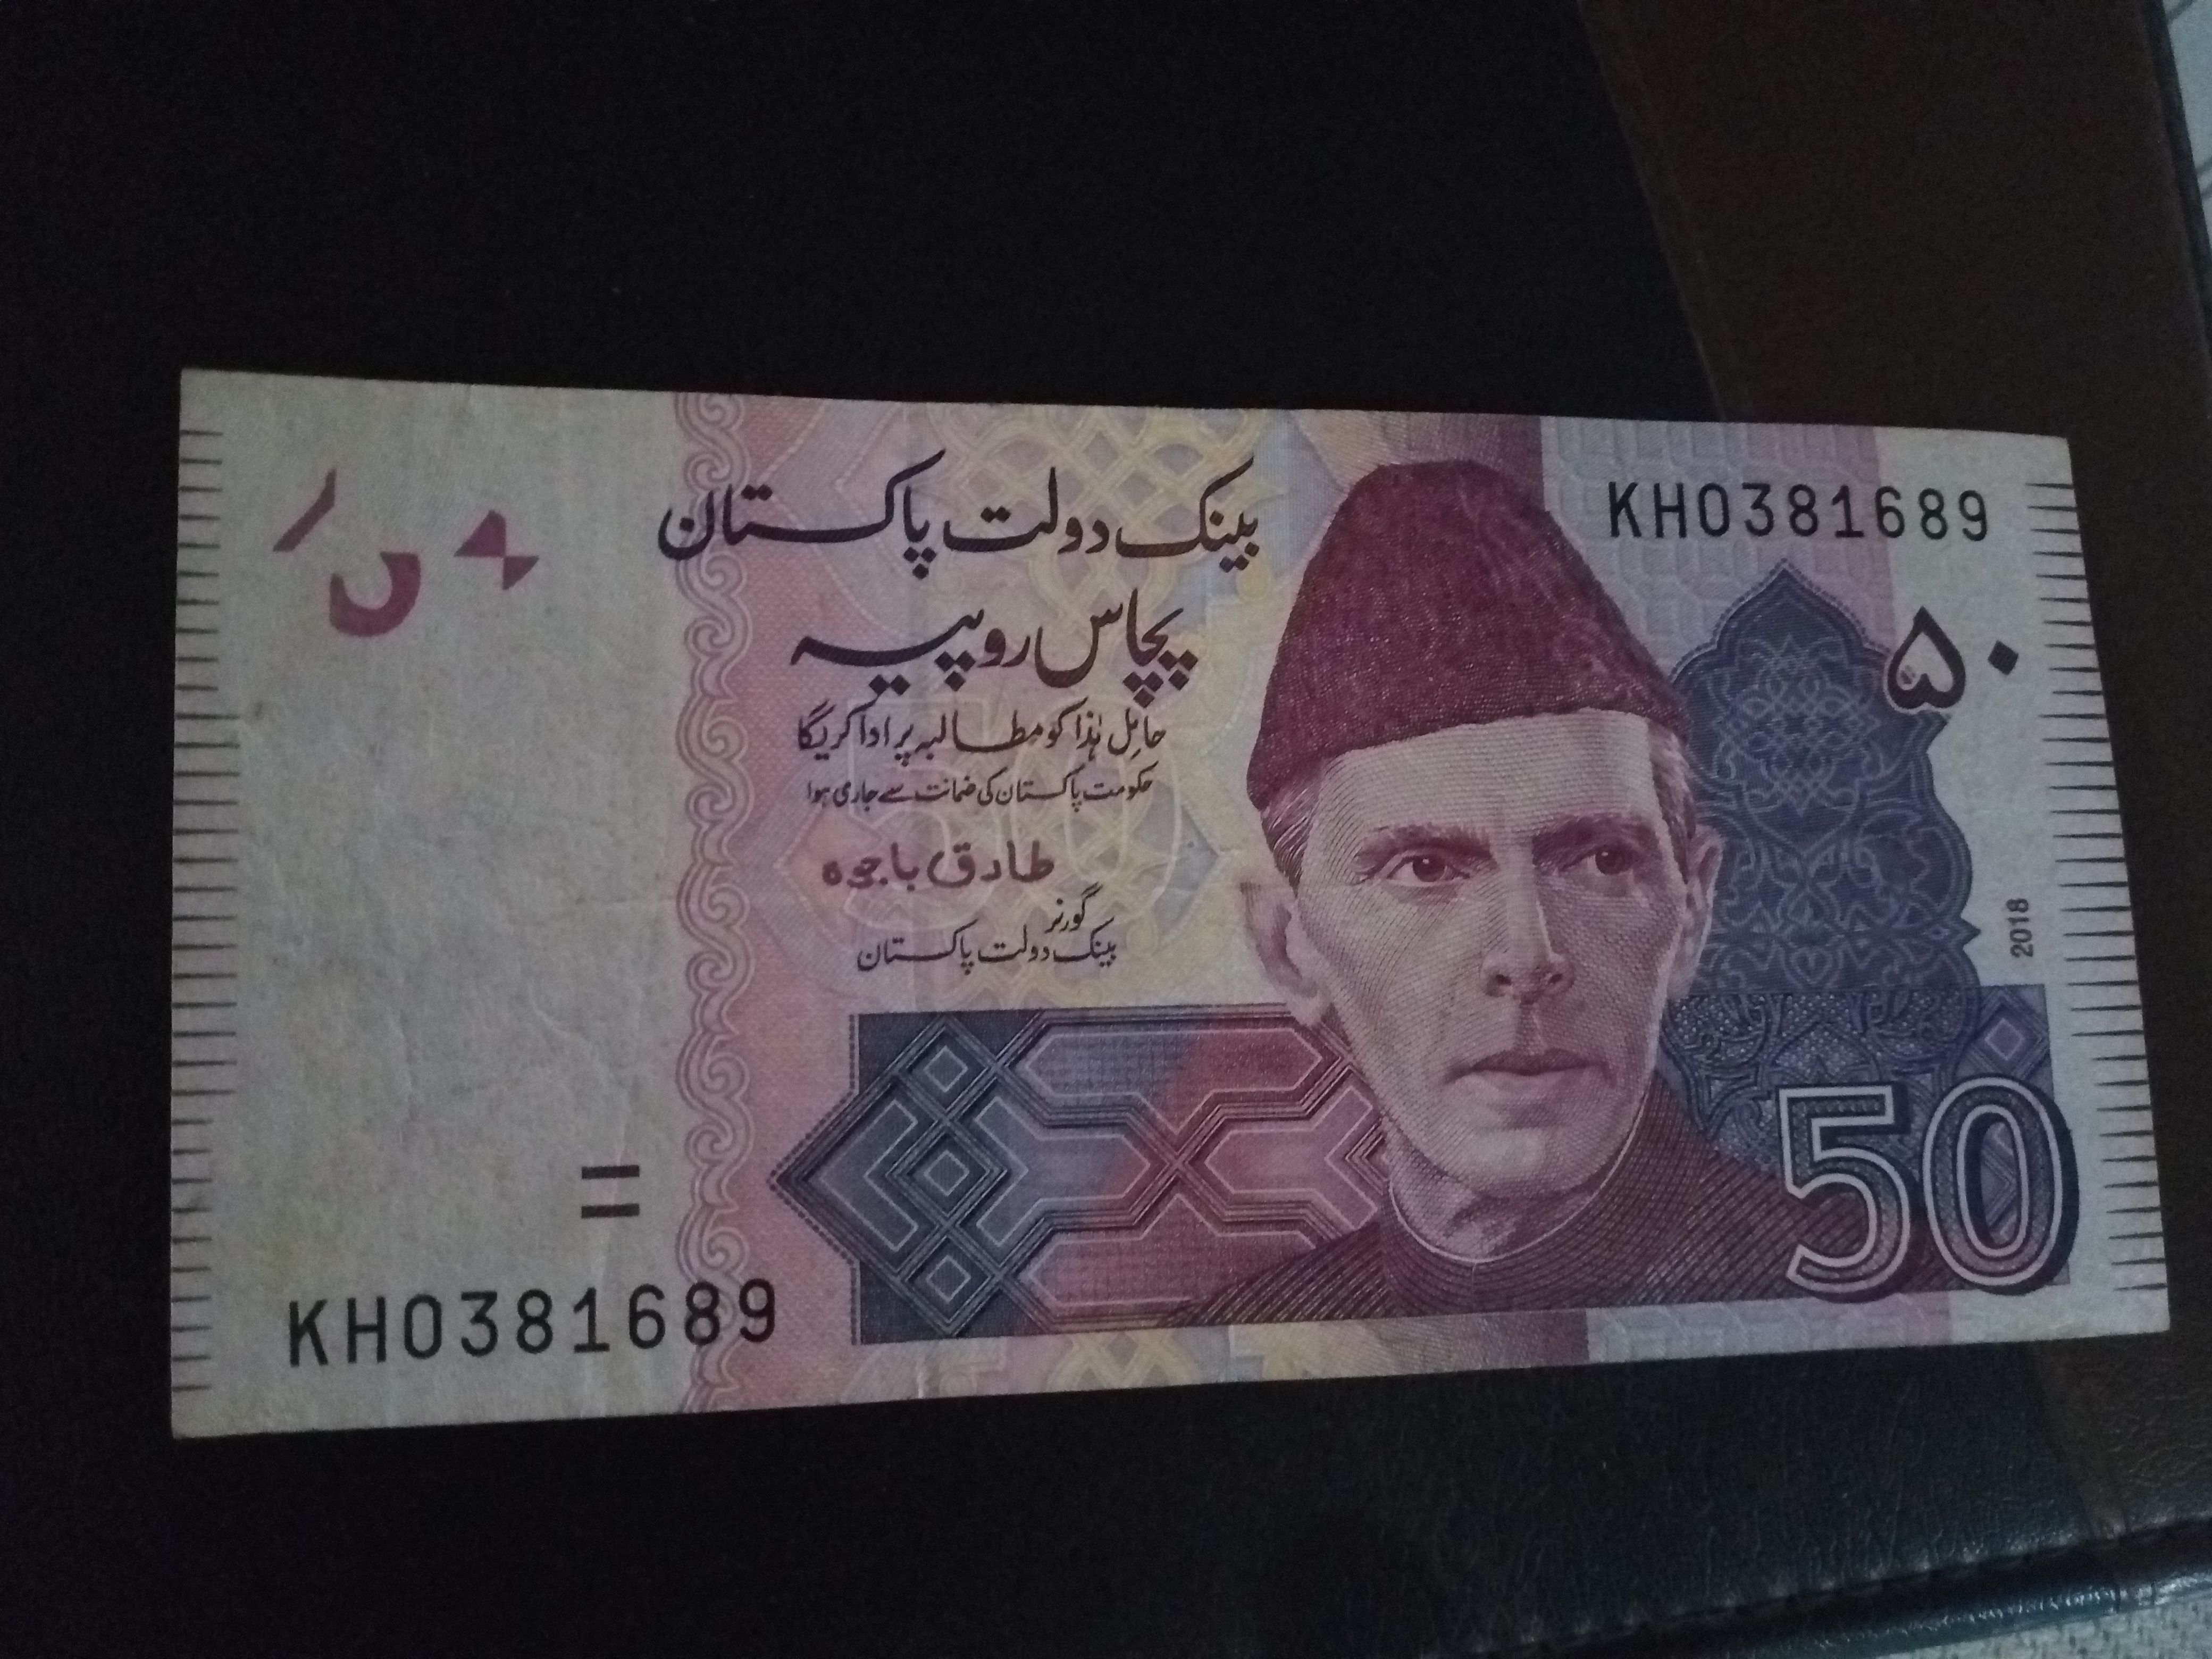50 rupee: (164, 310, 2179, 1497)
